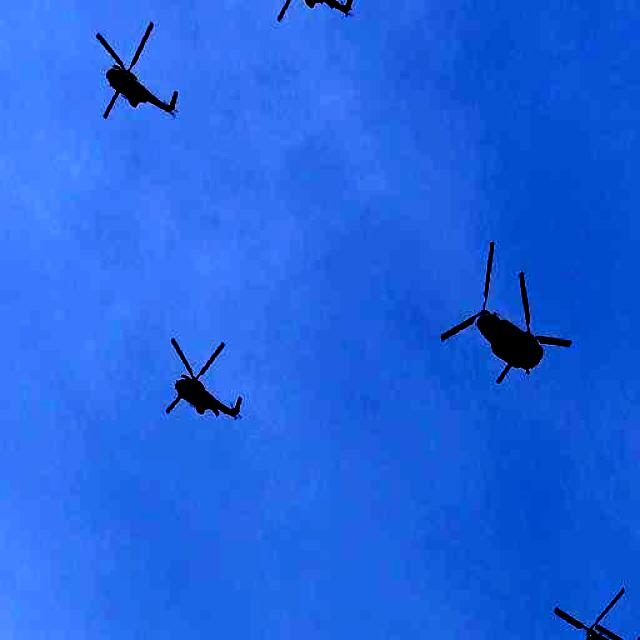drone: (439, 231, 580, 390), (95, 19, 182, 129), (165, 328, 244, 430), (550, 575, 640, 640), (270, 0, 358, 31)
